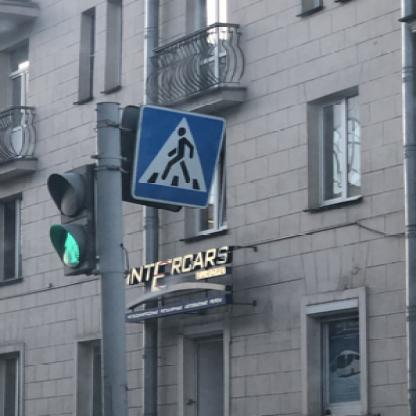crosswalk: (127, 103, 222, 207)
trafficlight: (43, 163, 97, 277)
